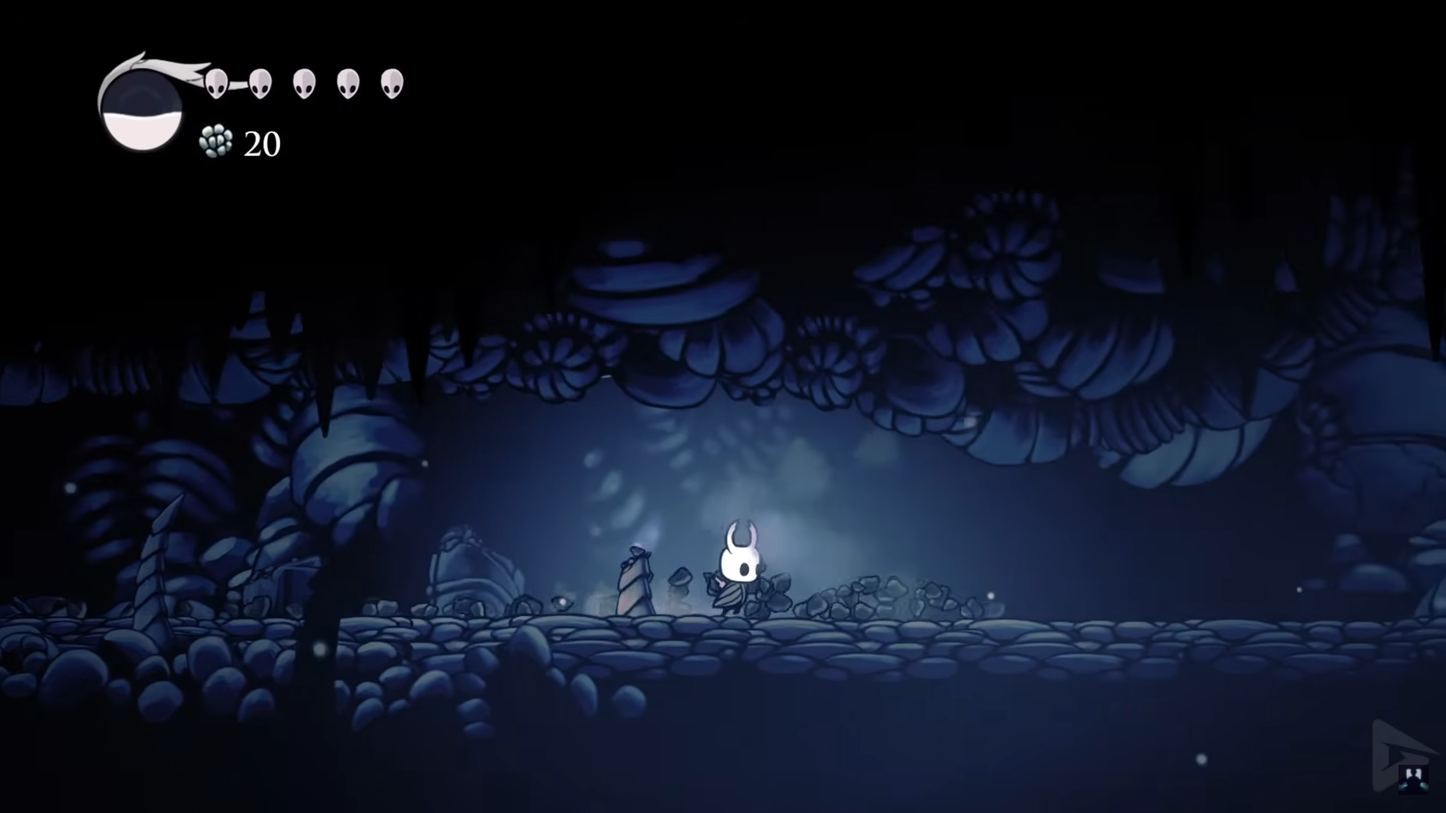HK: (711, 514, 768, 623)
